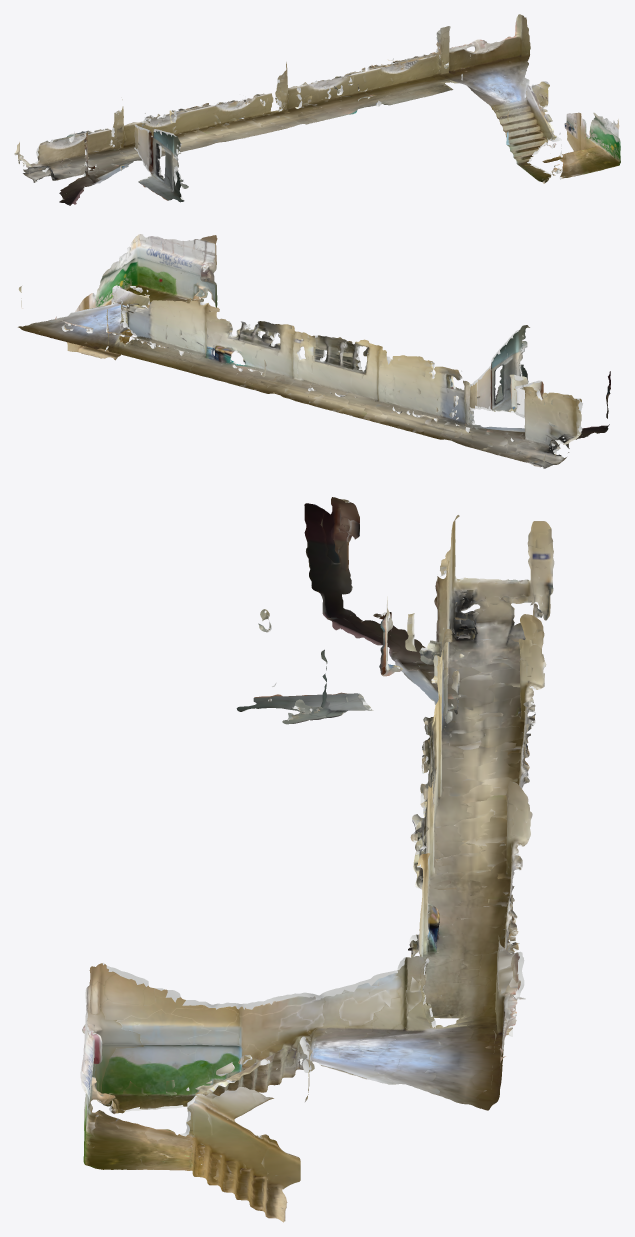
Rendered from MAP_5WSBO6AFDG9S.glb.
3 views of the same model, one above another, from view 1: azimuth 30°, elevation 25°; view 2: azimuth 150°, elevation 25°; view 3: azimuth 270°, elevation 25° (orthographic). The views are drawn at different scales.
Parts seen in each view (by area): view 1: TexturedMesh.obj; view 2: TexturedMesh.obj; view 3: TexturedMesh.obj.
Part boxes in pixels (left/top/right/bottom): TexturedMesh.obj: left=14, top=14, right=620, bottom=205; TexturedMesh.obj: left=18, top=234, right=610, bottom=468; TexturedMesh.obj: left=80, top=497, right=554, bottom=1222.
Size of the model in its own units: 25.27 by 5.71 by 10.16.
1 material, 1 textured.
